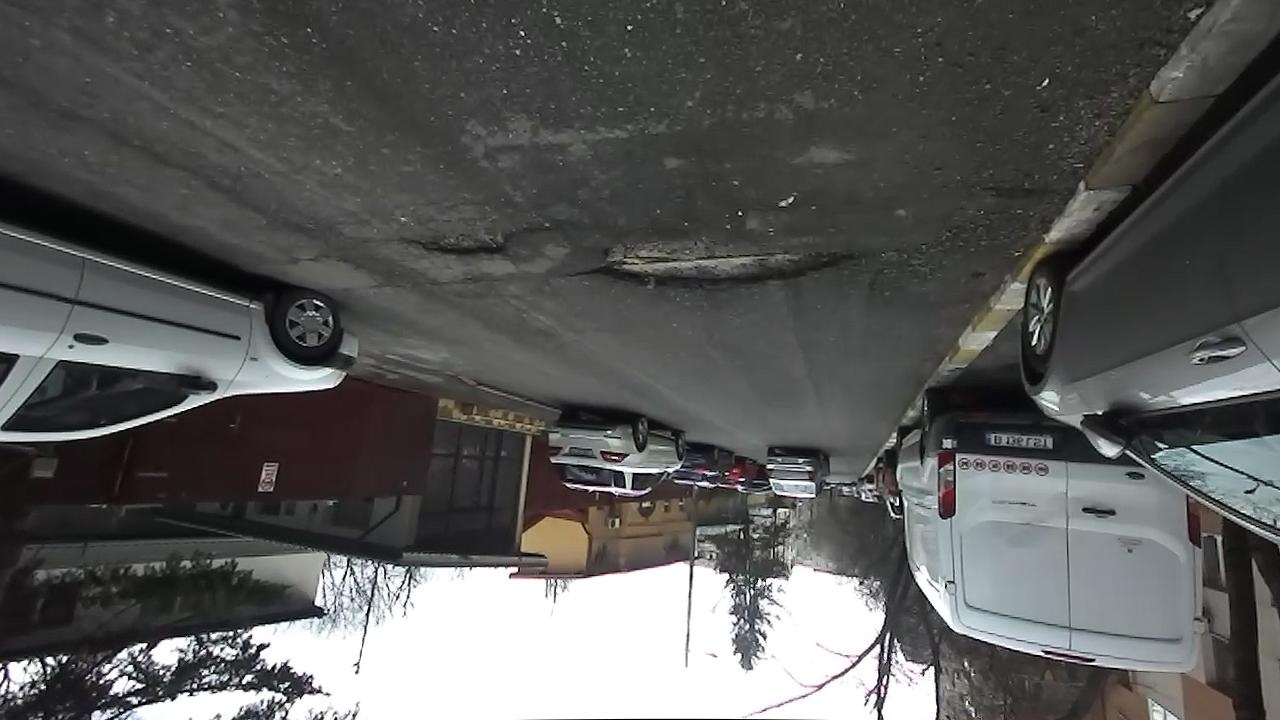pothole: (568, 228, 873, 294), (393, 219, 542, 260)
